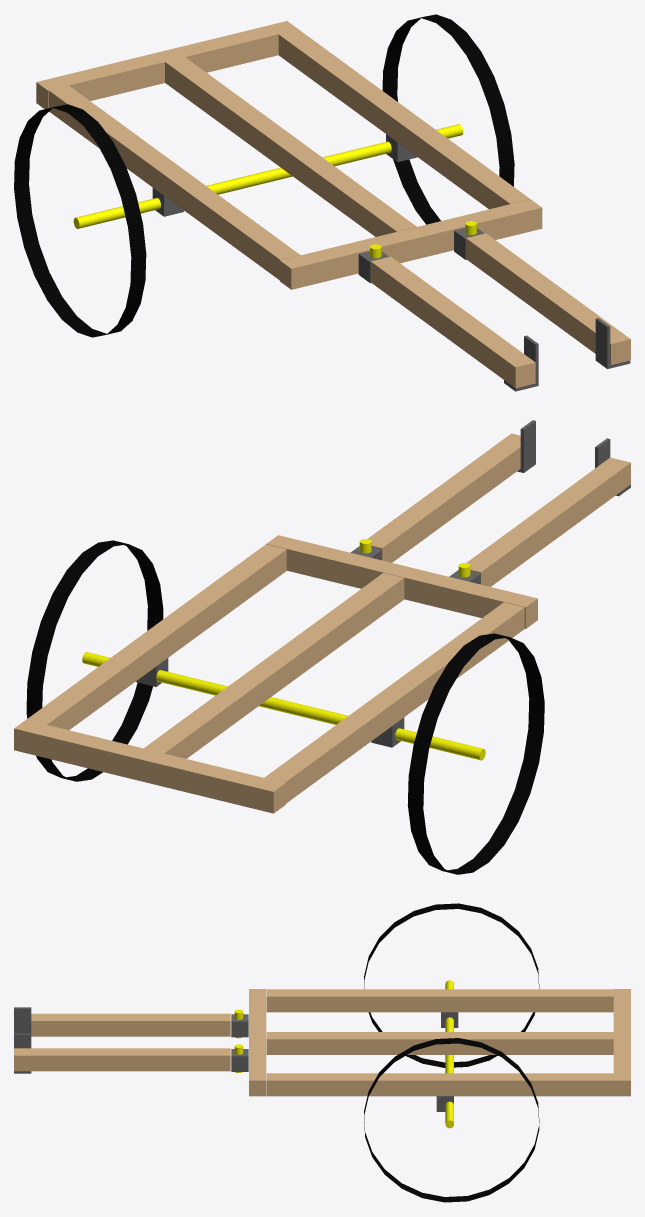
Rendered from bicycle_trailer.dae.
The picture shows the model from 3 angles, top to bottom: view 1: azimuth 30°, elevation 25°; view 2: azimuth 150°, elevation 25°; view 3: azimuth 270°, elevation 25°; orthographic projection. The views are drawn at different scales.
Parts seen in each view (by area): view 1: gridbeam_40mm_horizontal_1.2m_1 (×2), SketchUp (×4), gridbeam_40mm_horizontal_1.2m_3 (×2), gridbeam_40mm_horizontal_1.2m (×2), gridbeam_40mm_horizontal_1.2m_2, pedalling_axle_6; view 2: gridbeam_40mm_horizontal_1.2m_1 (×2), gridbeam_40mm_horizontal_1.2m_3 (×2), SketchUp (×3), gridbeam_40mm_horizontal_1.2m (×2), gridbeam_40mm_horizontal_1.2m_2, pedalling_axle_6; view 3: gridbeam_40mm_horizontal_1.2m_1 (×2), gridbeam_40mm_horizontal_1.2m (×2), gridbeam_40mm_horizontal_1.2m_2, SketchUp (×3), gridbeam_40mm_horizontal_1.2m_3 (×2), pedalling_axle_6.
Boxes of the visible parts, x1=… form: gridbeam_40mm_horizontal_1.2m_1 (×2): x1=48, y1=57, x2=416, y2=280; SketchUp (×4): x1=14, y1=14, x2=630, y2=391; gridbeam_40mm_horizontal_1.2m_3 (×2): x1=36, y1=21, x2=542, y2=289; gridbeam_40mm_horizontal_1.2m (×2): x1=370, y1=233, x2=630, y2=388; gridbeam_40mm_horizontal_1.2m_2: x1=278, y1=29, x2=529, y2=209; pedalling_axle_6: x1=76, y1=124, x2=463, y2=228; gridbeam_40mm_horizontal_1.2m_1 (×2): x1=144, y1=573, x2=524, y2=803; gridbeam_40mm_horizontal_1.2m_3 (×2): x1=14, y1=535, x2=537, y2=813; SketchUp (×3): x1=26, y1=420, x2=544, y2=874; gridbeam_40mm_horizontal_1.2m (×2): x1=368, y1=433, x2=630, y2=586; gridbeam_40mm_horizontal_1.2m_2: x1=26, y1=544, x2=286, y2=729; pedalling_axle_6: x1=82, y1=652, x2=483, y2=760; gridbeam_40mm_horizontal_1.2m_1 (×2): x1=266, y1=989, x2=613, y2=1054; gridbeam_40mm_horizontal_1.2m (×2): x1=14, y1=1013, x2=230, y2=1071; gridbeam_40mm_horizontal_1.2m_2: x1=266, y1=1073, x2=613, y2=1096; SketchUp (×3): x1=14, y1=903, x2=539, y2=1202; gridbeam_40mm_horizontal_1.2m_3 (×2): x1=249, y1=989, x2=630, y2=1096; pedalling_axle_6: x1=445, y1=980, x2=453, y2=1128.
Size of the model in its own units: 30.33 by 56.02 by 15.93.
